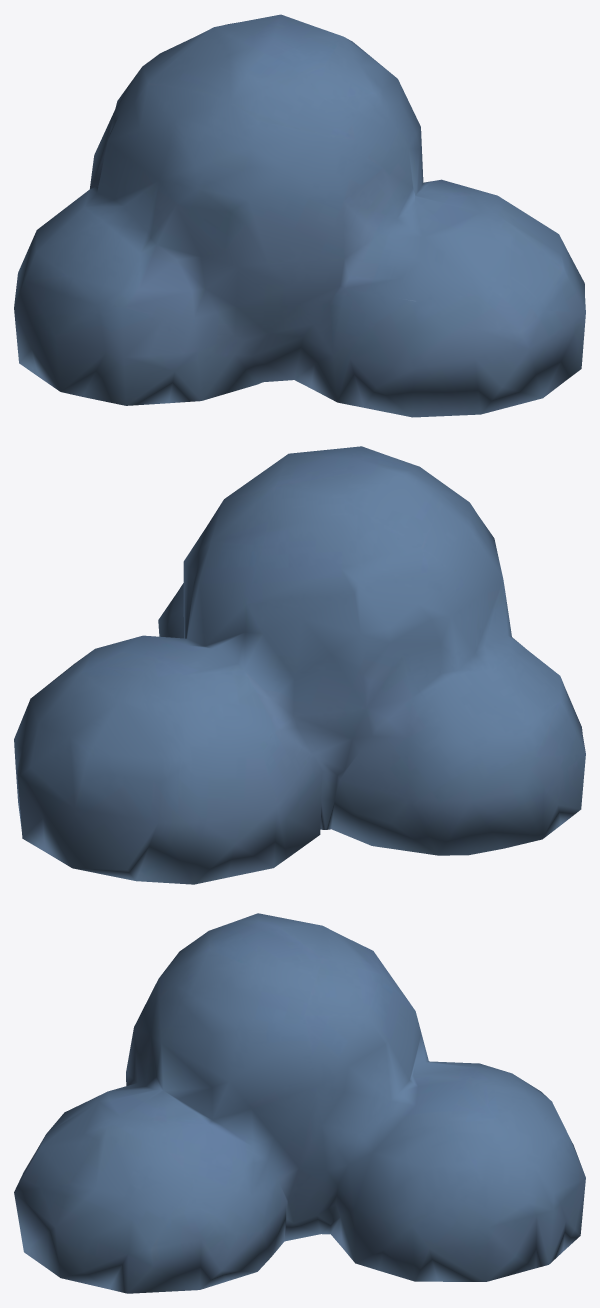
File: rock.glb
The picture shows the model from 3 angles, top to bottom: view 1: azimuth 30°, elevation 25°; view 2: azimuth 150°, elevation 25°; view 3: azimuth 270°, elevation 25°; orthographic projection. The views are drawn at different scales.
Visible parts, largest first — view 1: tripo_node_b4b84ed2-4b05-4157-b692-15a495c69cef; view 2: tripo_node_b4b84ed2-4b05-4157-b692-15a495c69cef; view 3: tripo_node_b4b84ed2-4b05-4157-b692-15a495c69cef.
Part boxes in pixels (x1,y1,x2,y2): tripo_node_b4b84ed2-4b05-4157-b692-15a495c69cef: (14,14,585,417); tripo_node_b4b84ed2-4b05-4157-b692-15a495c69cef: (14,446,585,884); tripo_node_b4b84ed2-4b05-4157-b692-15a495c69cef: (14,913,585,1293).
Bounding box in the file's own units: 2.65 × 1.63 × 3.2.
1 material, 1 textured.
